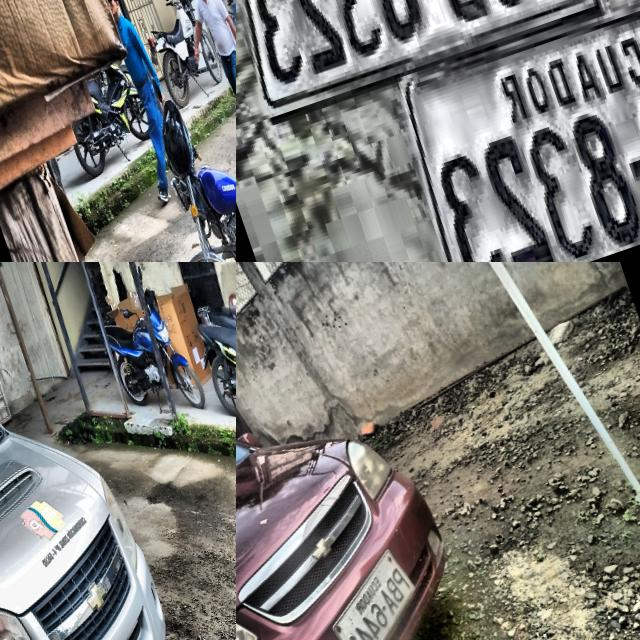license_plate: (393, 0, 640, 262), (238, 0, 614, 121), (327, 542, 418, 640)
